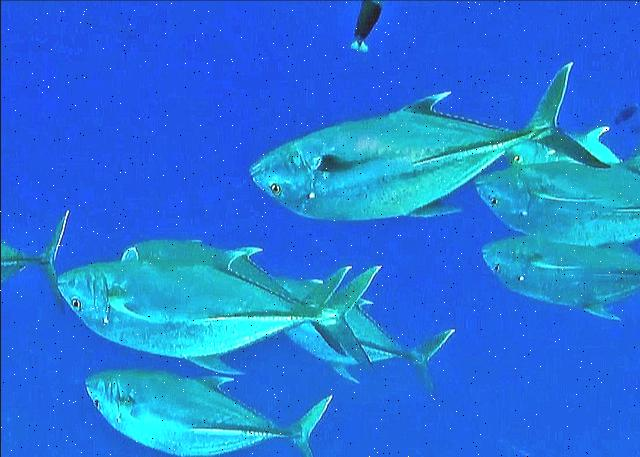Mulut: (238, 146, 278, 208), (64, 366, 106, 410), (42, 264, 76, 316), (462, 237, 502, 279), (462, 168, 500, 209)
Sirip Anal: (391, 74, 463, 118), (212, 238, 250, 282), (196, 370, 240, 405)
Sirip Dada: (498, 230, 584, 282), (96, 286, 160, 336), (308, 146, 394, 182), (522, 180, 598, 210)
Sirip Ekor: (512, 37, 620, 183), (322, 256, 392, 376), (294, 252, 350, 364), (406, 318, 458, 408), (278, 383, 336, 457)
Sirip Punggung: (178, 340, 255, 385), (404, 188, 468, 228), (578, 294, 630, 338)
